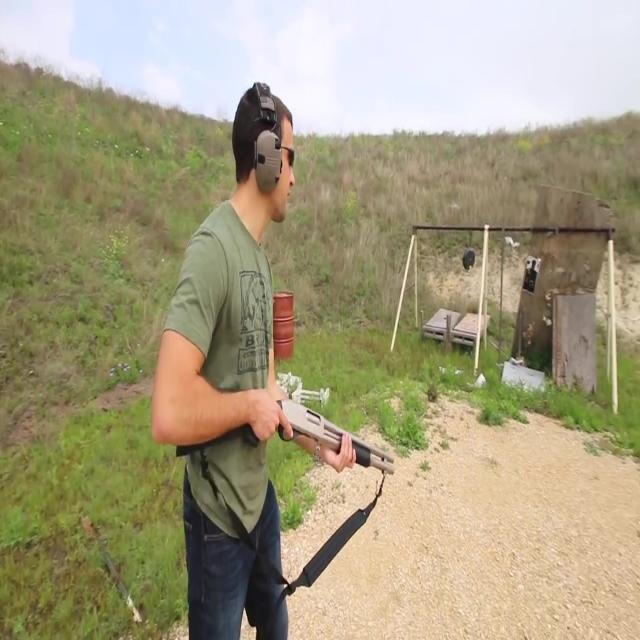Weapon: (170, 365, 402, 525)
